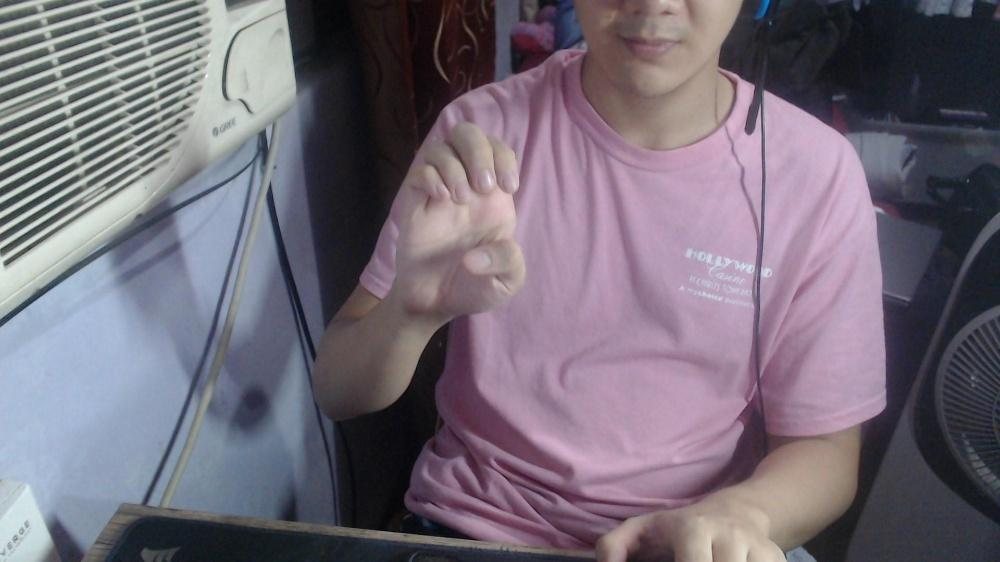e: (394, 118, 528, 317)
